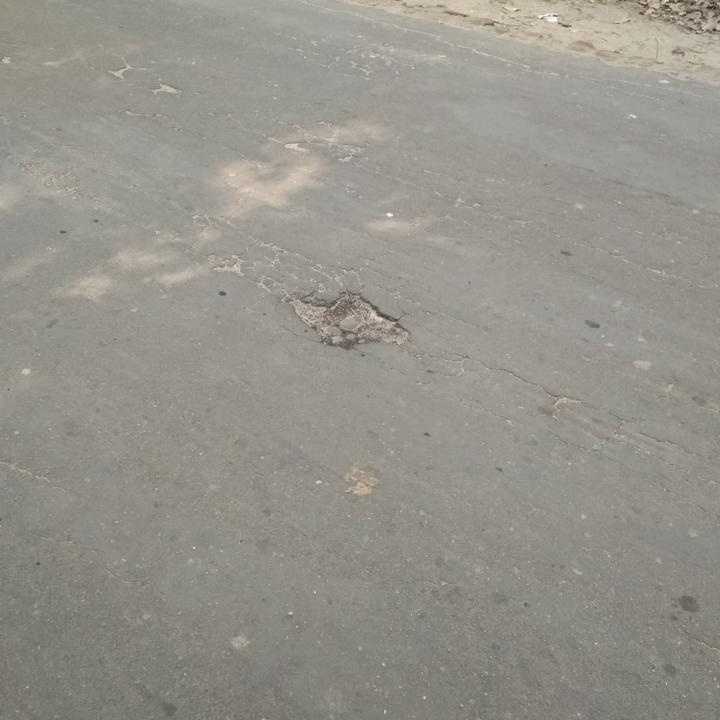pothole: (285, 286, 417, 348)
